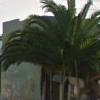Palm tree: (23, 4, 95, 75)
